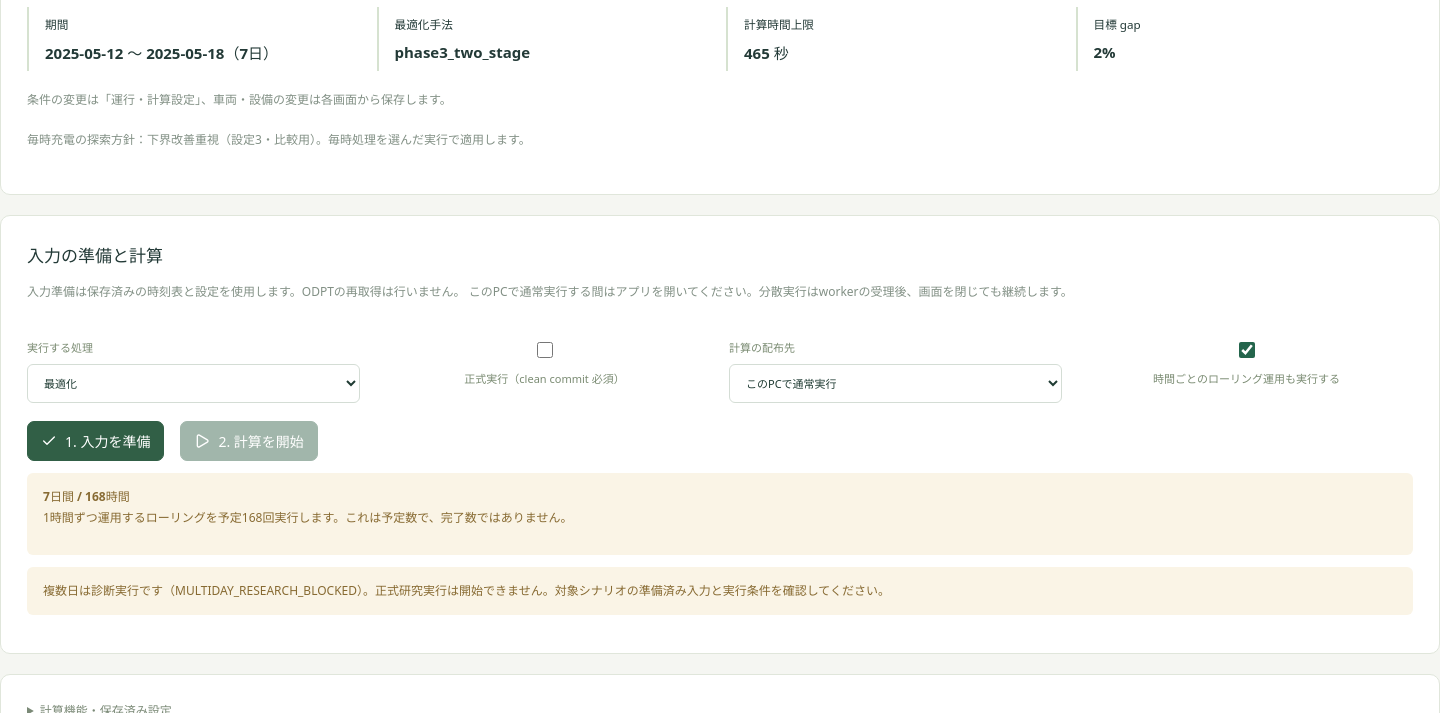
explains the multi-day formal guard for reoptimization too
This screenshot has width=1440, height=713.
Click the button "1. 入力を準備" at (96, 441), box [27,421,164,461]
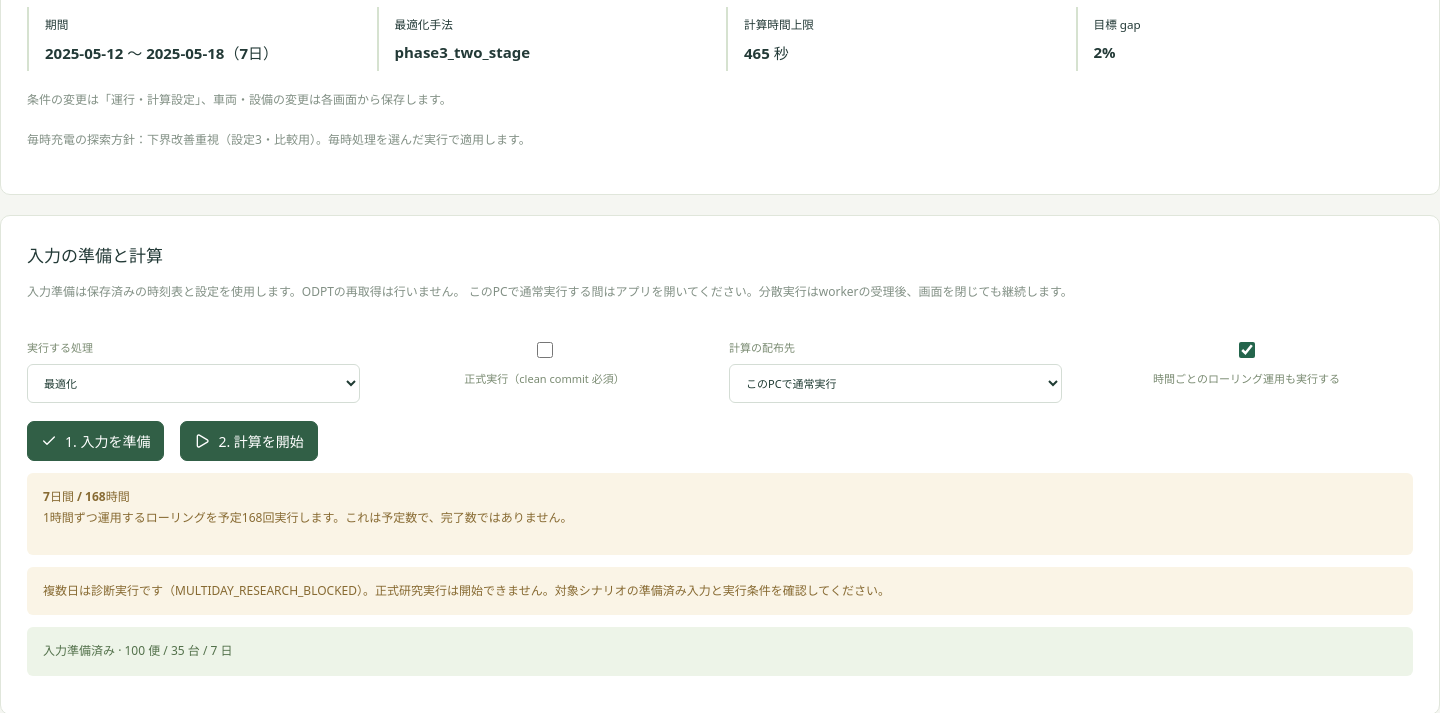
Now the text "入力準備済み · 100 便 / 35 台 / 7 日" is shown, box [27,627,1413,676]
Select "観測状態から再最適化" in the dropdown labelled "実行する処理" at (194, 383), box [27,364,360,403]
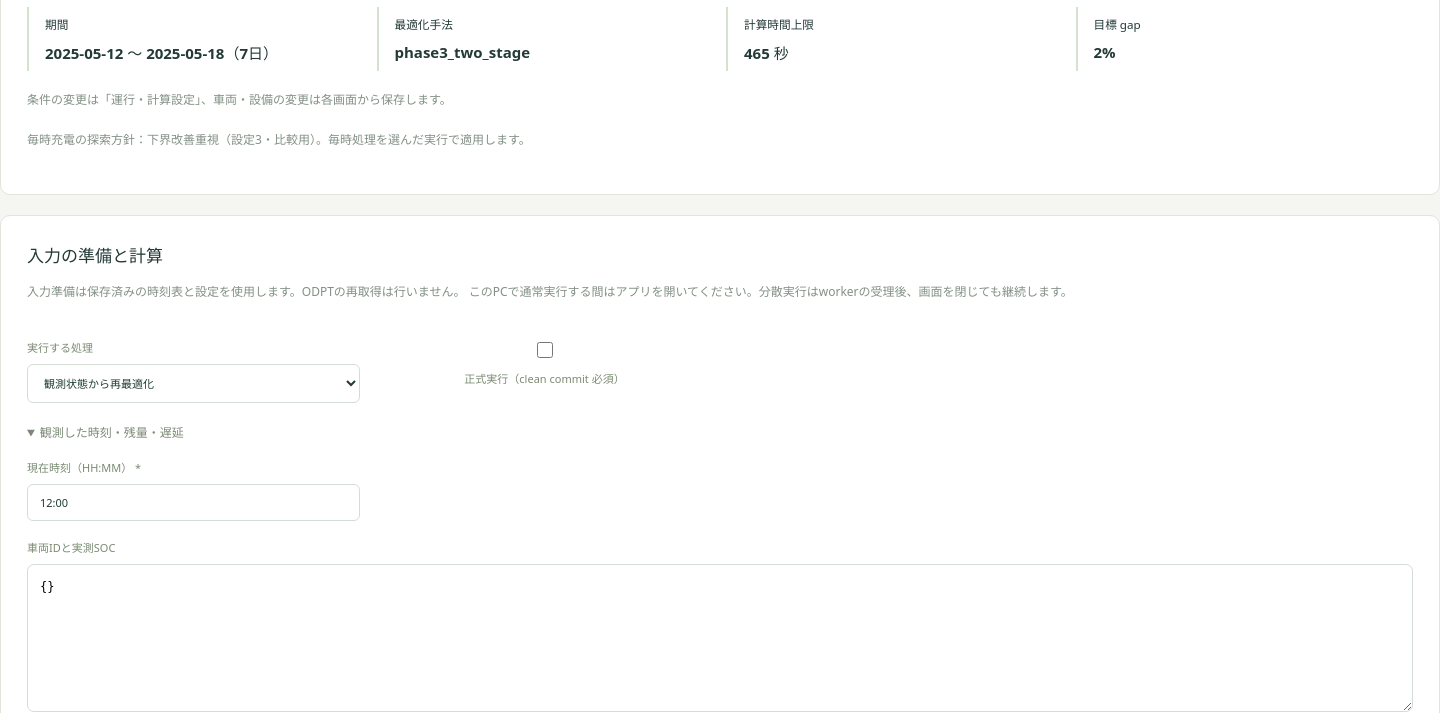
Click the checkbox labelled "正式実行（clean commit 必須）" at (545, 350), box [537,342,553,358]
(page scrolled)
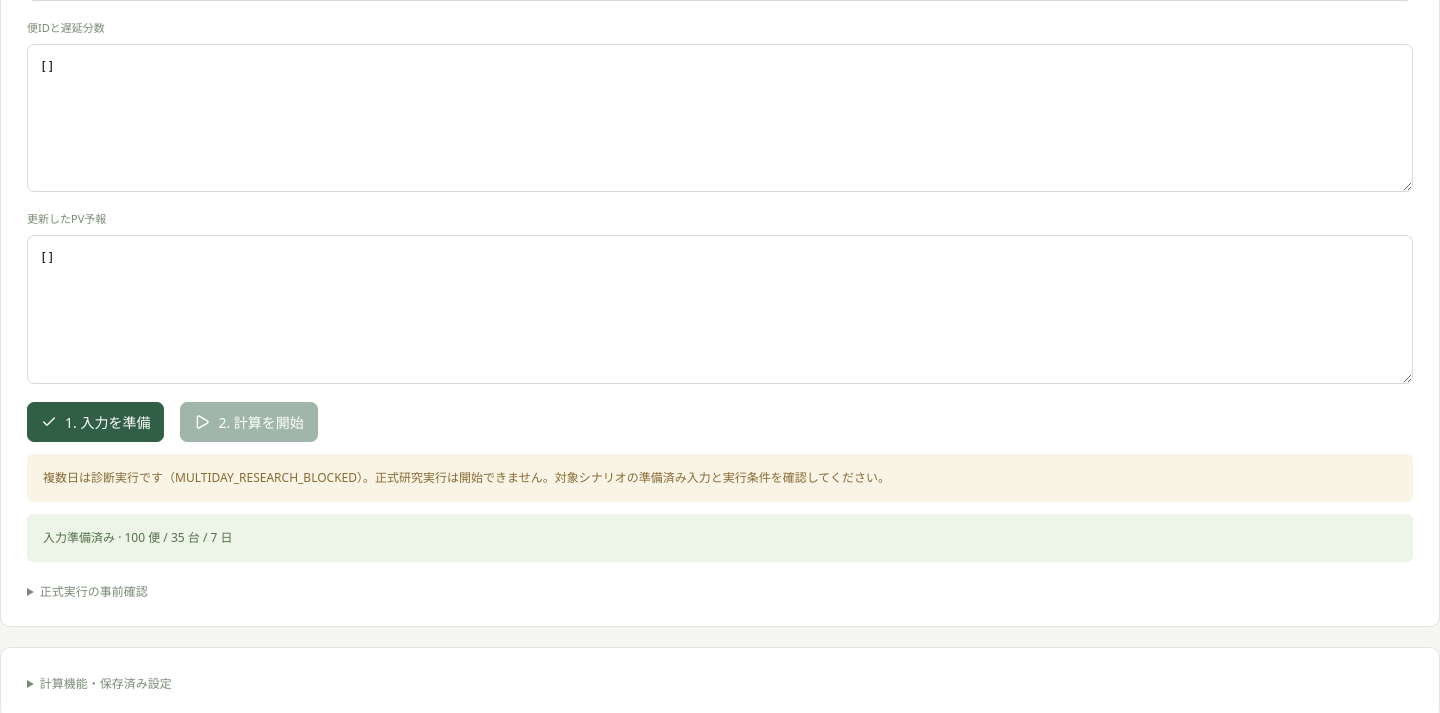
Expected: the text "MULTIDAY_RESEARCH_BLOCKED" is shown, [43,468,890,486]
Now the button "2. 計算を開始" is disabled, box [180,402,318,442]
